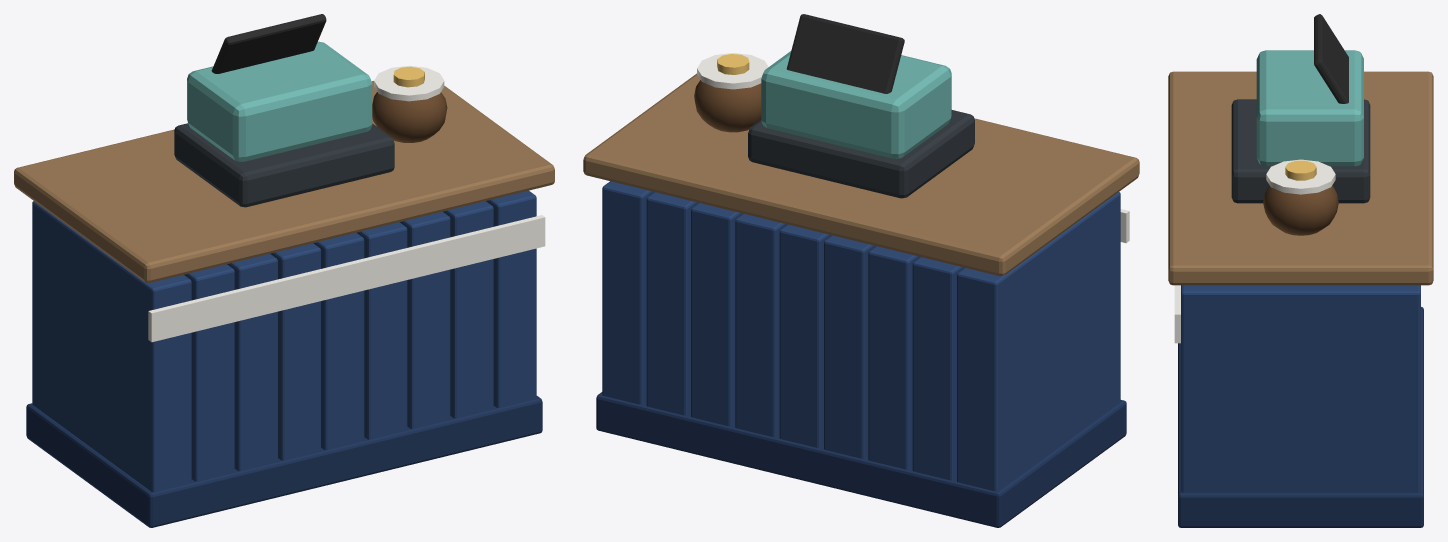
File: b_till.gltf
3 renders of one model, left to right at view 1: azimuth 30°, elevation 25°; view 2: azimuth 150°, elevation 25°; view 3: azimuth 270°, elevation 25°, orthographic. The views are drawn at different scales.
Parts seen in each view (by area): view 1: b_till; view 2: b_till; view 3: b_till.
Part boxes in pixels (x1,y1,x2,y2): b_till: (14, 14, 554, 527); b_till: (583, 14, 1139, 527); b_till: (1168, 14, 1433, 527).
Size of the model in its own units: 1.48 by 1.39 by 0.84.
Materials: 1 (1 with a texture image).
